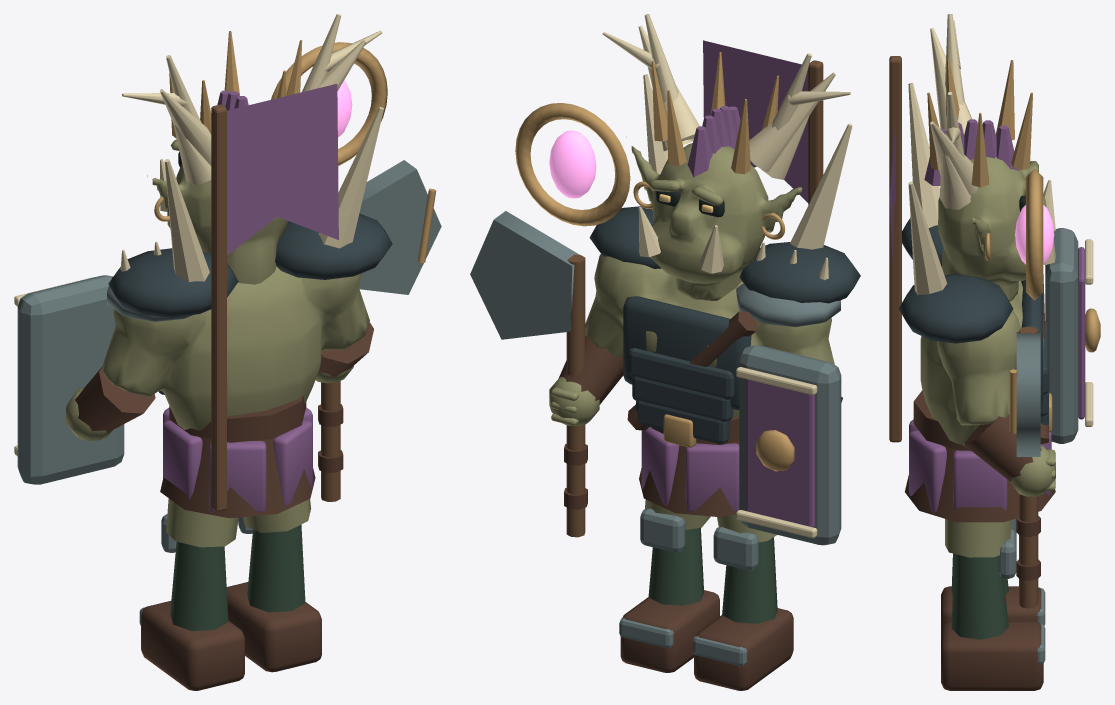
Rendered from host_20.glb.
The picture shows the model from 3 angles, left to right: view 1: azimuth 30°, elevation 25°; view 2: azimuth 150°, elevation 25°; view 3: azimuth 270°, elevation 25°; orthographic projection. The views are drawn at different scales.
Parts seen in each view (by area): view 1: mesh_Skin.002, mesh_Iron.002, mesh_Cloth.019, mesh_Bone.019, mesh_Leather.002, mesh_Warlord blackened steel.001, mesh_Wood.019, mesh_Leather.019, mesh_Leather.001, mesh_Copper.019, mesh_Shadow.019, mesh_Shadow.001 (+3 smaller); view 2: mesh_Skin.002, mesh_Cloth.019, mesh_Iron.002, mesh_Warlord blackened steel.001, mesh_Bone.019, mesh_Copper.019, mesh_Leather.002, mesh_Wood.019, mesh_Leather.019, mesh_Leather.001, mesh_Shadow.019, mesh_Shadow.001 (+3 smaller); view 3: mesh_Skin.002, mesh_Bone.019, mesh_Iron.002, mesh_Cloth.019, mesh_Warlord blackened steel.001, mesh_Leather.002, mesh_Copper.019, mesh_Wood.019, mesh_Leather.001, mesh_Shadow.001, mesh_Skin.001, mesh_Leather.019 (+2 smaller).
Boxes of the visible parts, x1=… form: mesh_Skin.002: x1=66, y1=139, x2=369, y2=440; mesh_Iron.002: x1=17, y1=160, x2=441, y2=484; mesh_Cloth.019: x1=163, y1=84, x2=338, y2=512; mesh_Bone.019: x1=14, y1=14, x2=383, y2=456; mesh_Leather.002: x1=75, y1=322, x2=373, y2=518; mesh_Warlord blackened steel.001: x1=108, y1=213, x2=392, y2=394; mesh_Wood.019: x1=211, y1=104, x2=340, y2=511; mesh_Leather.019: x1=141, y1=601, x2=244, y2=690; mesh_Leather.001: x1=226, y1=582, x2=321, y2=672; mesh_Copper.019: x1=154, y1=31, x2=436, y2=263; mesh_Shadow.019: x1=170, y1=542, x2=228, y2=630; mesh_Shadow.001: x1=247, y1=524, x2=305, y2=612; mesh_Skin.002: x1=549, y1=137, x2=834, y2=426; mesh_Cloth.019: x1=641, y1=40, x2=814, y2=527; mesh_Iron.002: x1=470, y1=211, x2=841, y2=545; mesh_Warlord blackened steel.001: x1=589, y1=206, x2=860, y2=444; mesh_Bone.019: x1=602, y1=14, x2=852, y2=538; mesh_Copper.019: x1=515, y1=52, x2=794, y2=471; mesh_Leather.002: x1=559, y1=311, x2=842, y2=517; mesh_Wood.019: x1=566, y1=60, x2=823, y2=537; mesh_Leather.019: x1=694, y1=608, x2=793, y2=690; mesh_Leather.001: x1=620, y1=590, x2=719, y2=672; mesh_Shadow.019: x1=722, y1=537, x2=777, y2=623; mesh_Shadow.001: x1=648, y1=528, x2=703, y2=605; mesh_Skin.002: x1=920, y1=157, x2=1055, y2=496; mesh_Bone.019: x1=908, y1=14, x2=1093, y2=426; mesh_Iron.002: x1=1016, y1=228, x2=1078, y2=456; mesh_Cloth.019: x1=889, y1=119, x2=1085, y2=513; mesh_Warlord blackened steel.001: x1=898, y1=218, x2=1048, y2=428; mesh_Leather.002: x1=905, y1=274, x2=1055, y2=580; mesh_Copper.019: x1=927, y1=60, x2=1100, y2=433; mesh_Wood.019: x1=889, y1=56, x2=1038, y2=608; mesh_Leather.001: x1=941, y1=622, x2=1043, y2=690; mesh_Shadow.001: x1=951, y1=554, x2=1008, y2=639; mesh_Skin.001: x1=945, y1=519, x2=1011, y2=557; mesh_Leather.019: x1=941, y1=586, x2=1041, y2=629.
Bounding box in the file's own units: 2.1 × 3.23 × 1.02.
